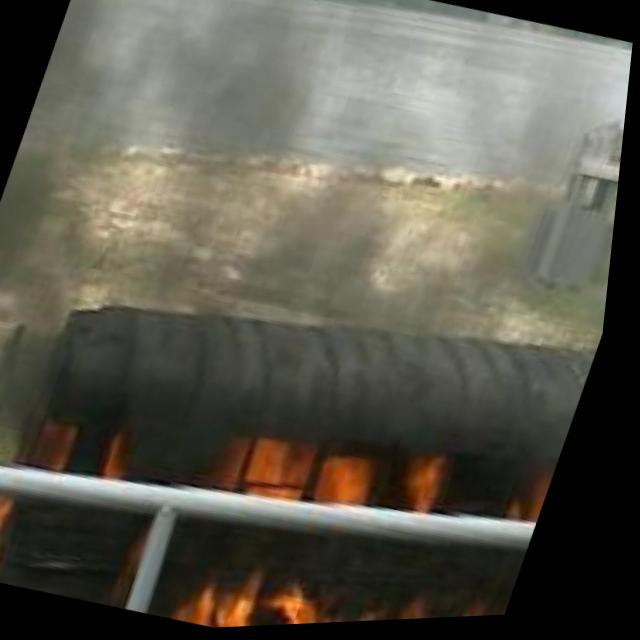Fire: (185, 524, 530, 632), (205, 426, 431, 544), (396, 434, 569, 532), (30, 409, 157, 488), (0, 471, 40, 584)
